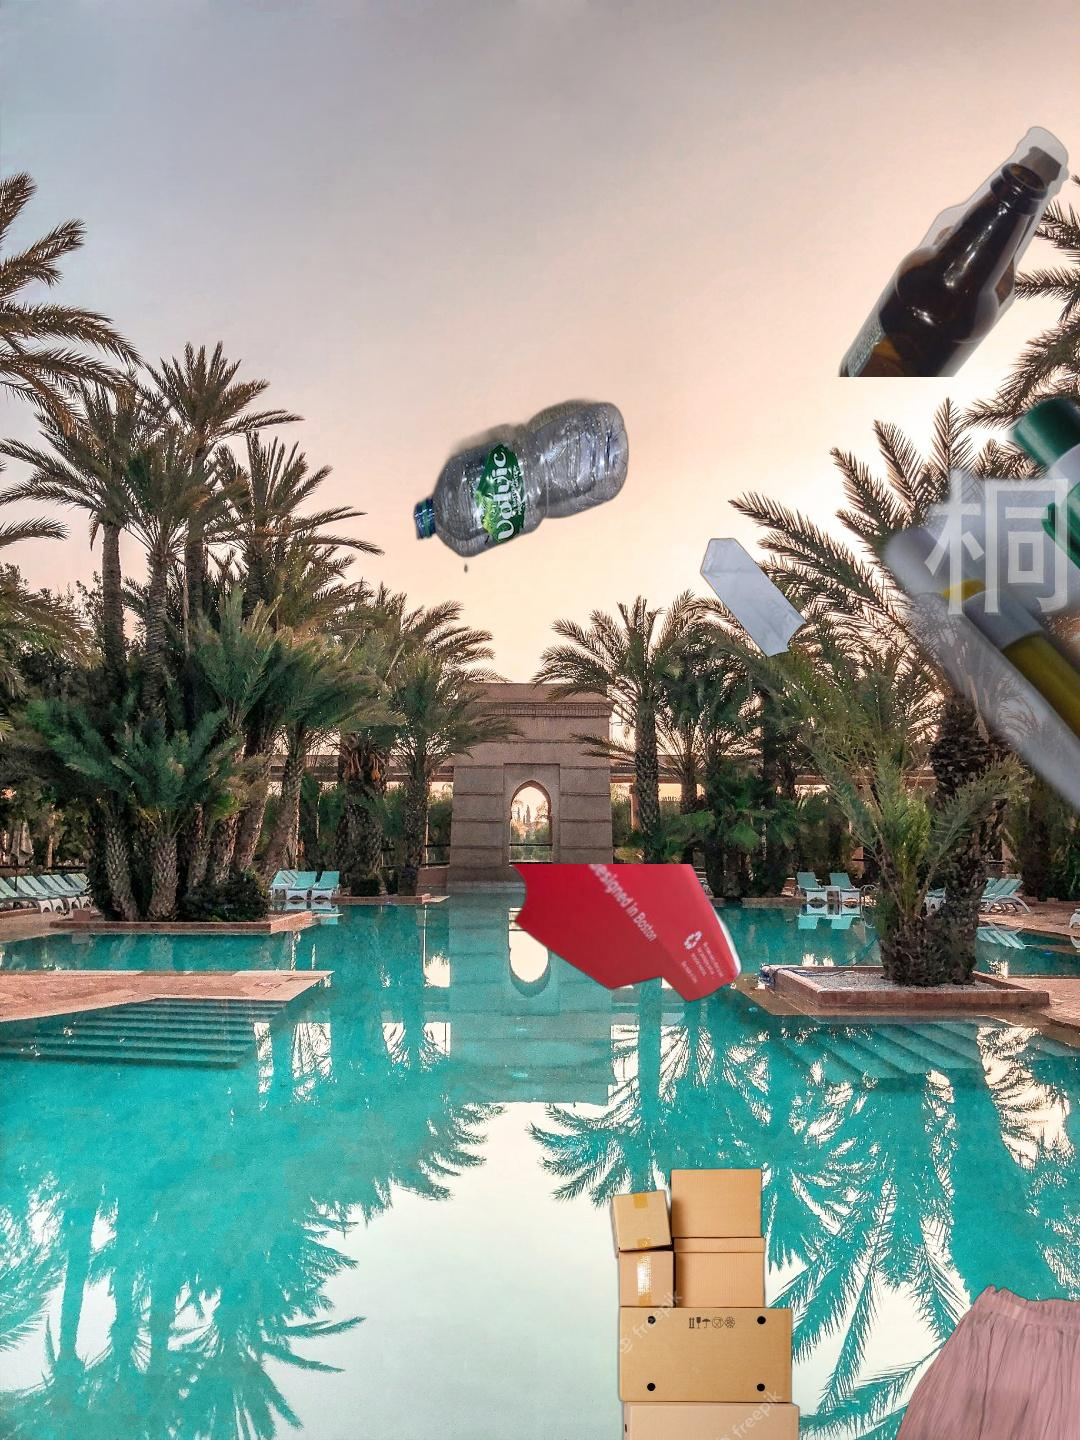clothes: (863, 1280, 1080, 1440)
glass: (834, 125, 1073, 376)
penholder: (775, 126, 1080, 1238)
plastic-bag: (517, 537, 811, 776)
plastic-bottles: (410, 393, 631, 578)
trashbox-cardboard: (605, 1164, 805, 1440), (506, 864, 746, 1006)
